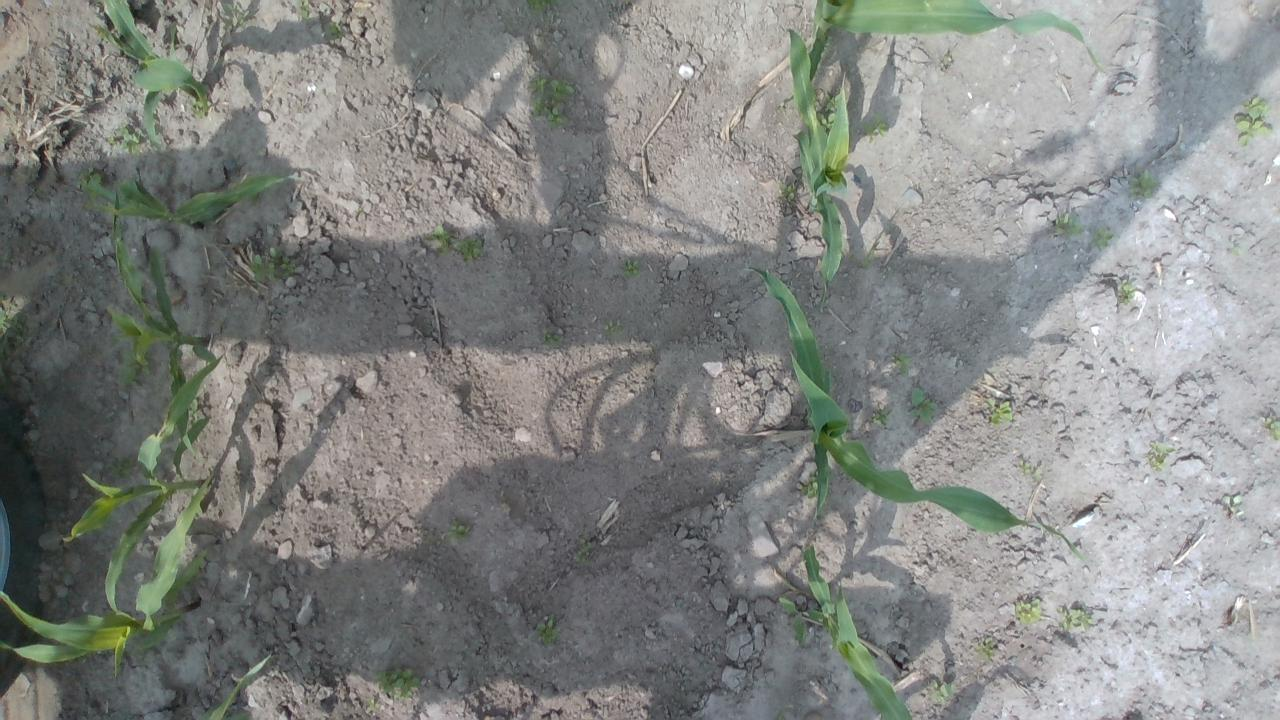Maize: (744, 263, 1093, 563), (0, 472, 220, 682), (58, 352, 222, 616), (104, 185, 215, 464), (809, 0, 1110, 83), (798, 544, 918, 720), (784, 24, 854, 306), (89, 0, 209, 154), (84, 170, 303, 229), (169, 653, 273, 720)
Weeds: (526, 74, 578, 130), (777, 595, 824, 647), (116, 342, 156, 388), (1234, 97, 1272, 145), (250, 246, 296, 284), (373, 666, 422, 701), (907, 386, 938, 425), (75, 166, 105, 204), (1056, 604, 1093, 632), (0, 297, 23, 340), (1130, 169, 1160, 201), (1145, 440, 1175, 472), (425, 225, 455, 256), (815, 93, 838, 132), (116, 122, 142, 156), (928, 677, 956, 706), (1014, 597, 1042, 625), (222, 1, 250, 29), (454, 236, 484, 262), (537, 615, 561, 647), (986, 398, 1014, 425), (107, 456, 135, 482), (445, 519, 473, 543), (1053, 214, 1082, 236), (864, 114, 886, 141), (1116, 278, 1137, 306), (573, 537, 594, 565), (890, 350, 911, 376), (799, 471, 819, 498), (187, 96, 211, 118), (974, 636, 996, 660), (524, 0, 558, 15), (1018, 460, 1042, 481), (850, 250, 876, 268), (871, 405, 891, 427), (603, 319, 625, 339), (540, 329, 563, 348), (1092, 227, 1112, 248), (620, 258, 641, 278), (1263, 417, 1280, 440), (777, 182, 797, 201), (1222, 496, 1243, 512), (188, 395, 199, 424), (325, 21, 343, 38), (296, 0, 310, 21), (136, 650, 152, 662), (364, 698, 378, 711), (1230, 242, 1241, 256), (104, 133, 115, 146), (774, 710, 784, 720), (942, 55, 952, 62)
